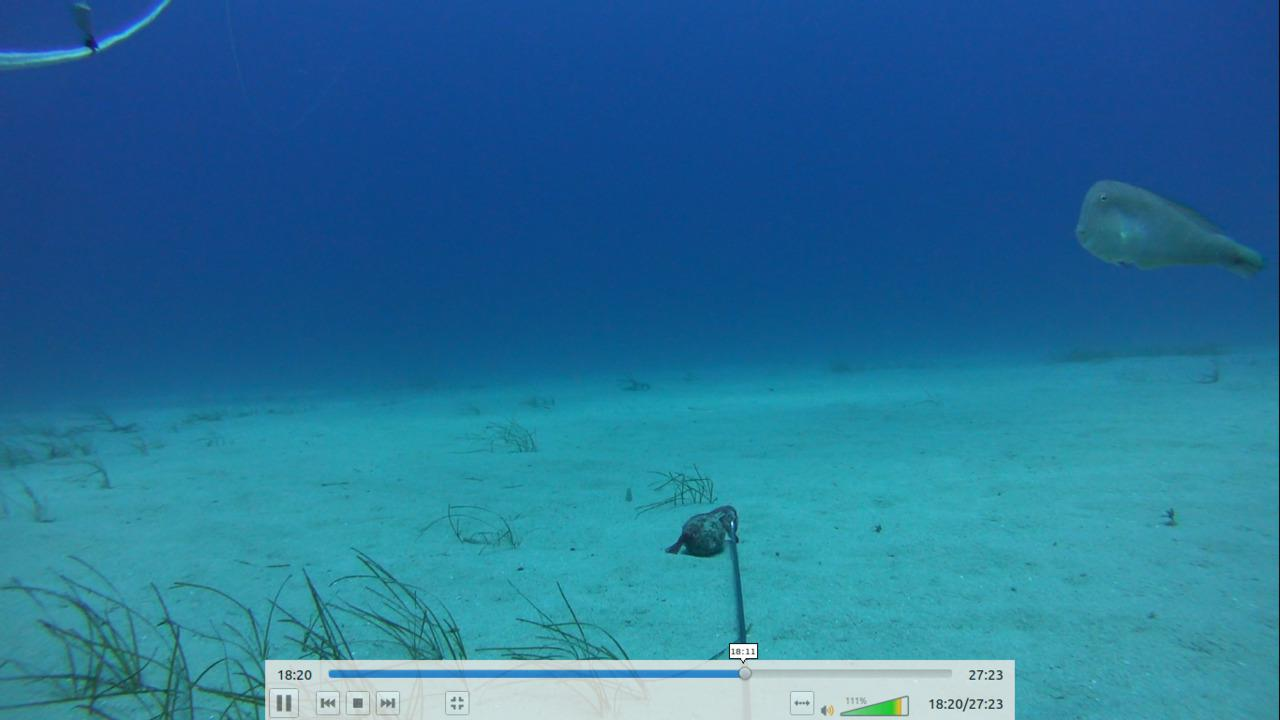raor: (1067, 172, 1267, 285)
